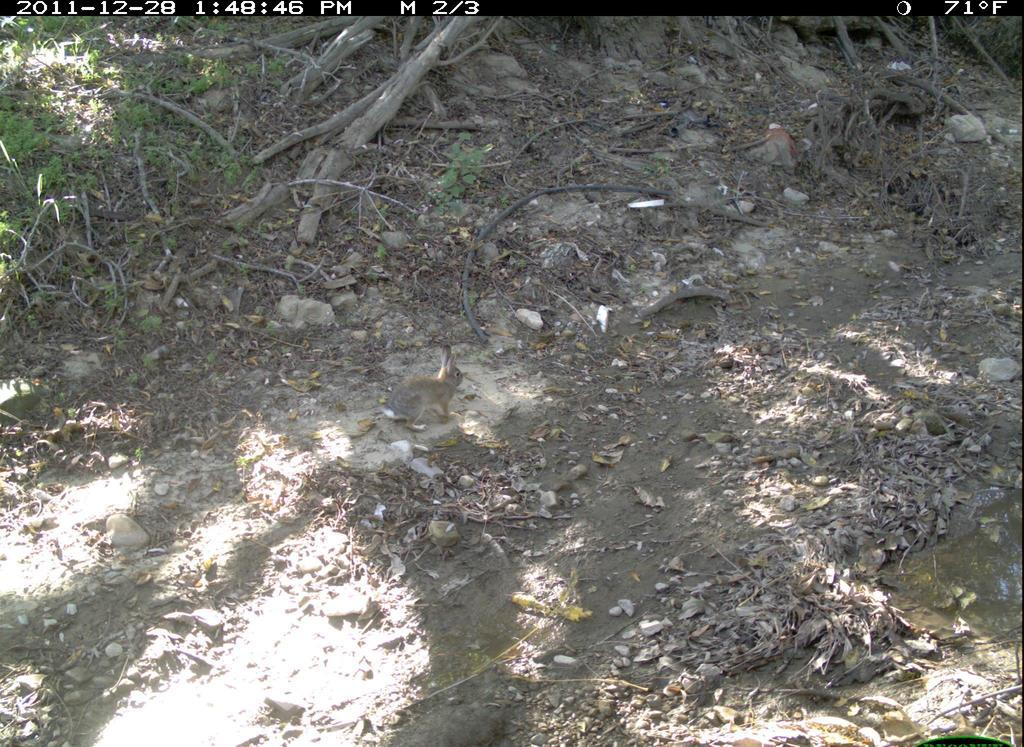rabbit: (379, 338, 474, 436)
